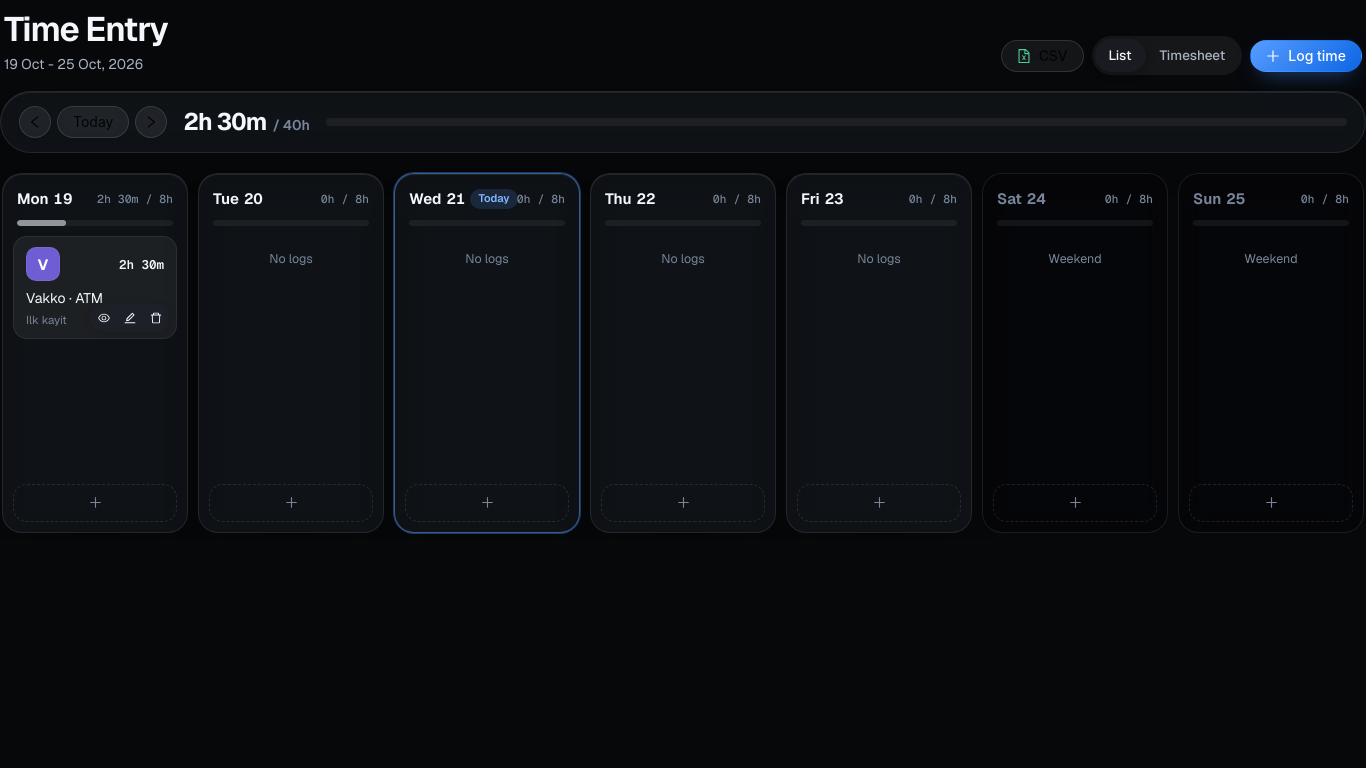
Test: kopyalama › secili kayit Ctrl+C ile panoya alinir
The image size is (1366, 768).
Click the text "Ilk kayit" at (46, 320), box [26,312,67,327]
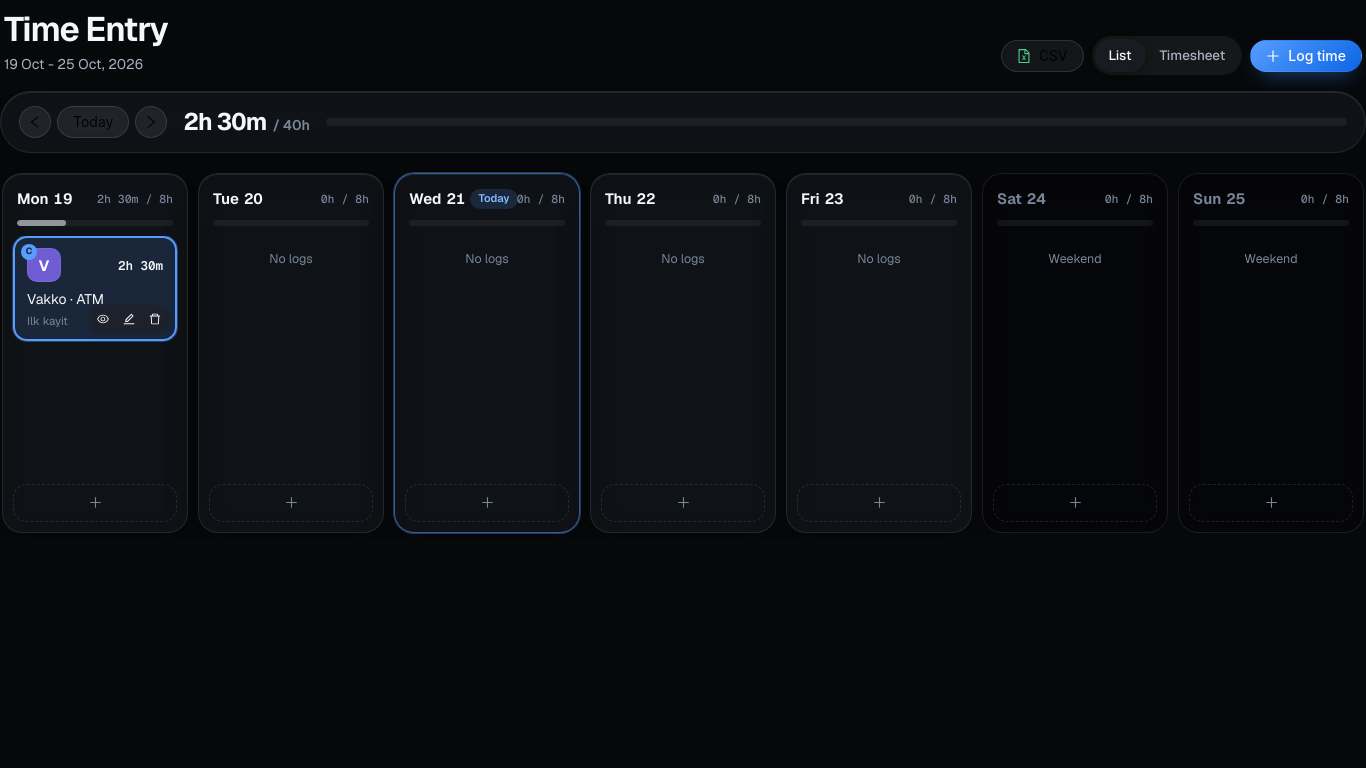
Press c
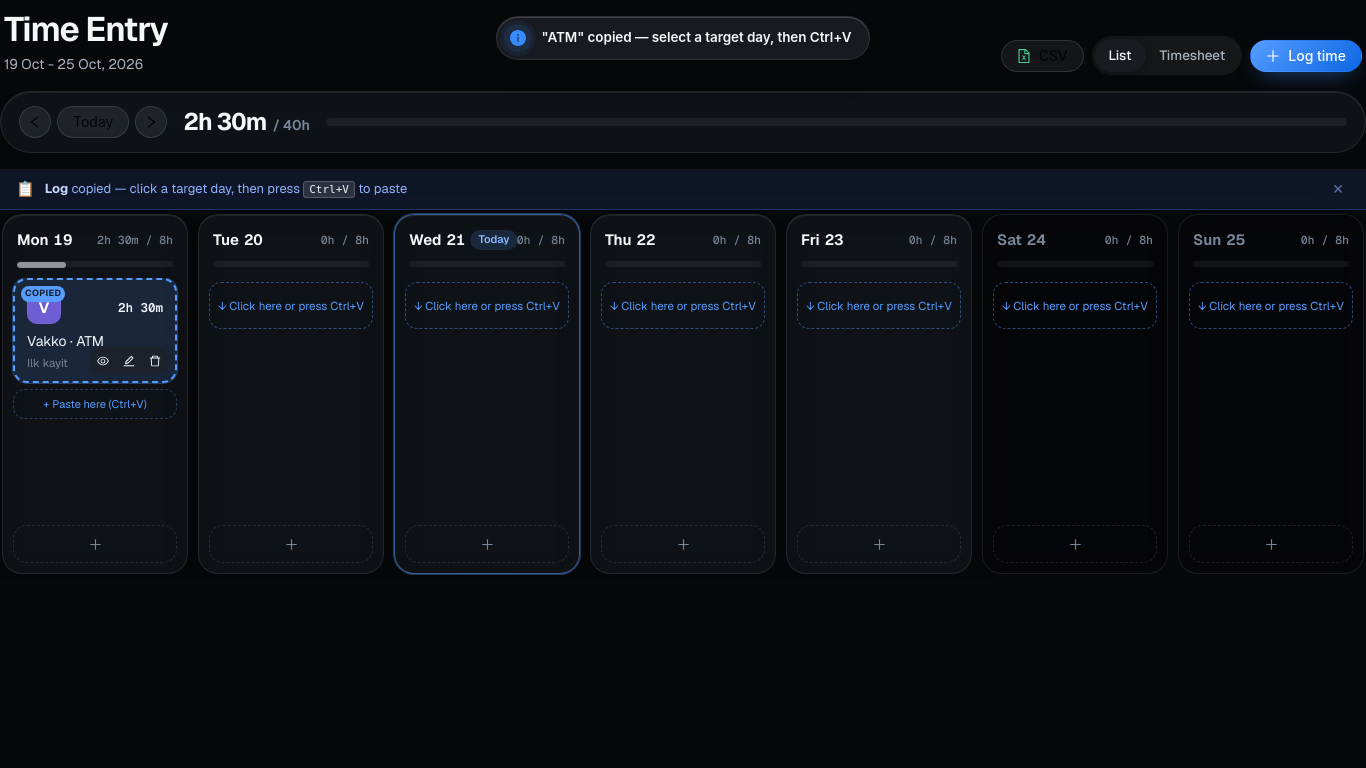
Expected: the text "Ctrl+V" is shown, [303,181,355,198]
